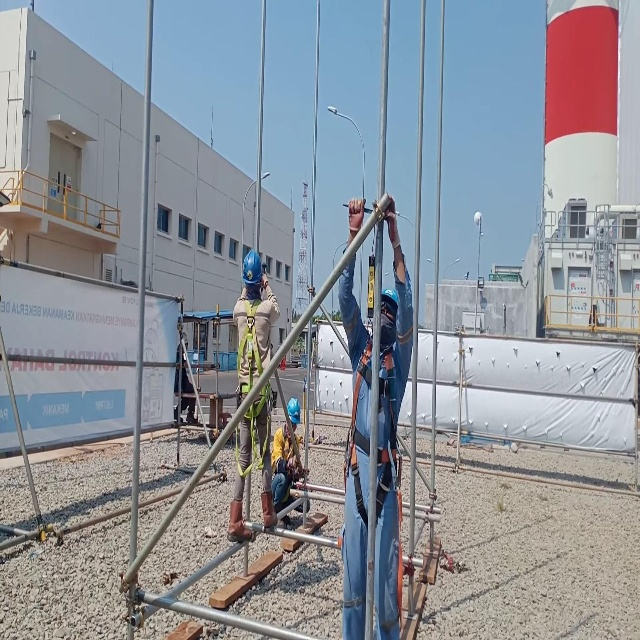Arnes_seguridad: (340, 340, 406, 626), (232, 294, 274, 478), (273, 418, 298, 505)
